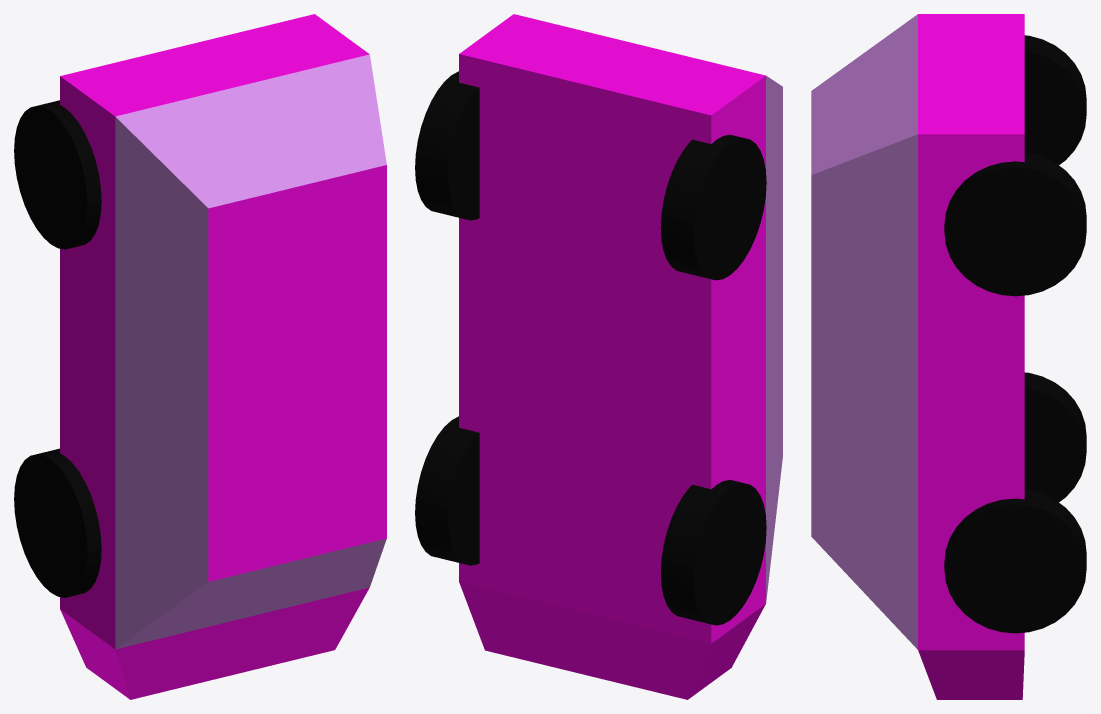
File: chatgptcar2.gltf
The picture shows the model from 3 angles, left to right: view 1: azimuth 30°, elevation 25°; view 2: azimuth 150°, elevation 25°; view 3: azimuth 270°, elevation 25°; orthographic projection. The views are drawn at different scales.
Visible parts, largest first — view 1: Cube.001, Cylinder.003, Cylinder.001; view 2: Cube.001, Cylinder.003, Cylinder.001, Cylinder, Cylinder.002; view 3: Cube.001, Cylinder.002, Cylinder, Cylinder.001, Cylinder.003.
Part boxes in pixels (x1,y1,x2,y2): Cube.001: (60,14,386,699); Cylinder.003: (14,448,101,597); Cylinder.001: (14,100,101,249); Cube.001: (459,14,782,699); Cylinder.003: (660,480,766,625); Cylinder.001: (660,134,766,280); Cylinder: (415,71,479,220); Cylinder.002: (415,416,479,565); Cube.001: (811,14,1024,699); Cylinder.002: (944,489,1086,633); Cylinder: (944,152,1086,296); Cylinder.001: (1024,35,1086,164); Cylinder.003: (1024,372,1086,502).
Size of the model in its own units: 2.25 by 4.56 by 1.97.
